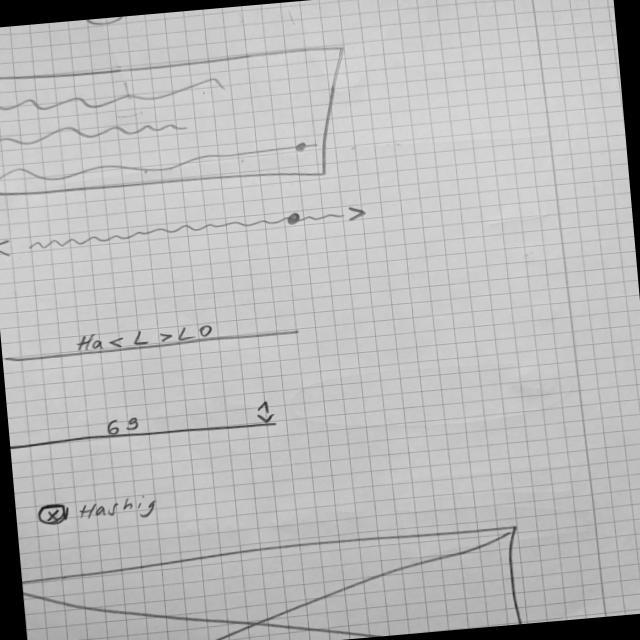icon-button: (34, 501, 74, 530), (79, 16, 132, 31)
image: (21, 521, 533, 640)
input: (2, 310, 305, 367)
label: (77, 491, 163, 527)
link: (1, 198, 374, 260), (108, 325, 177, 349)
number-input: (9, 396, 283, 454)
slider: (1, 136, 321, 188), (24, 207, 346, 253)
textbox: (1, 44, 361, 205)
